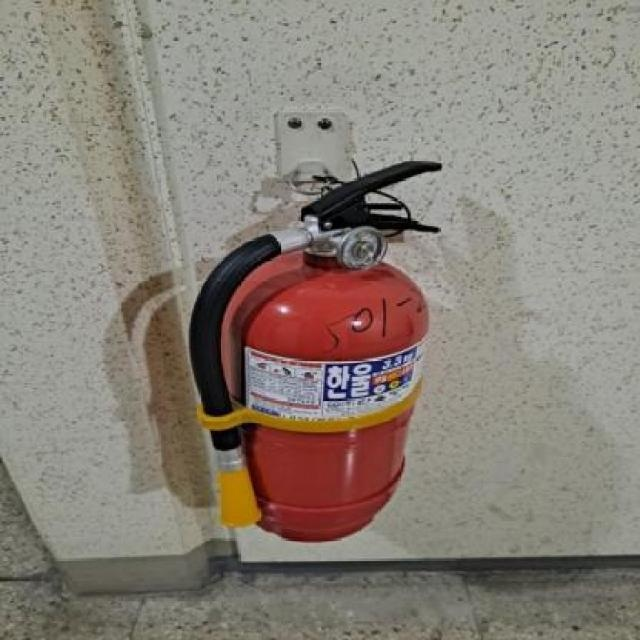fire extinguisher: (188, 160, 444, 543)
